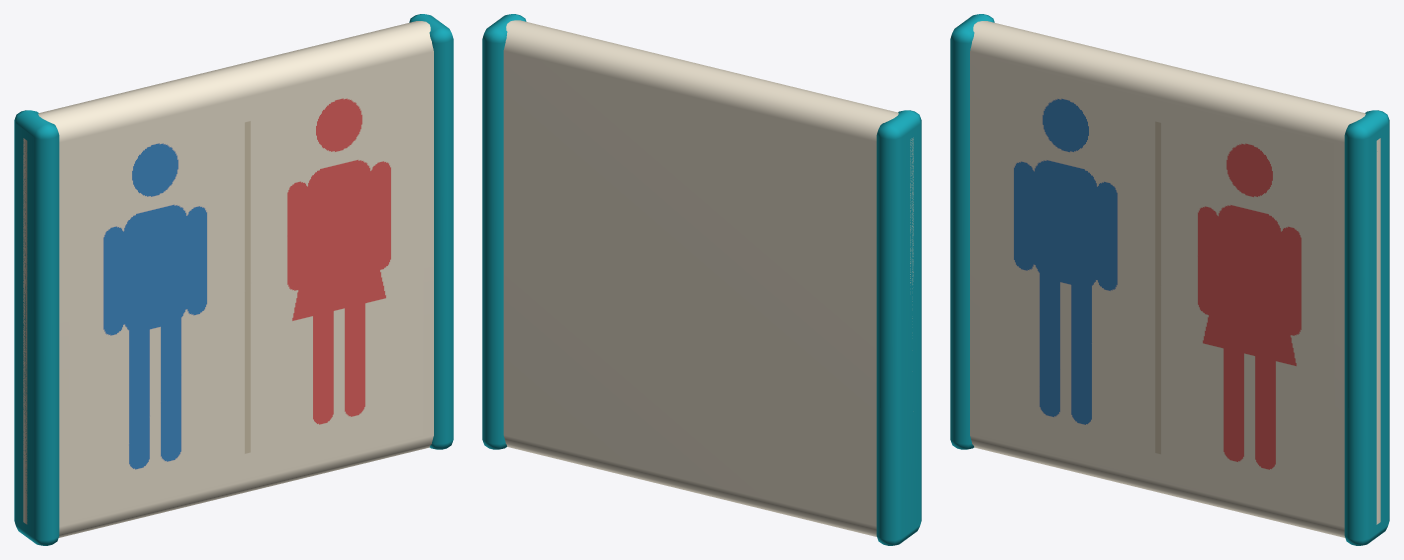
The model's file is Entrance_Sign_Restroom.glb.
3 renders of one model, left to right at view 1: azimuth 30°, elevation 25°; view 2: azimuth 150°, elevation 25°; view 3: azimuth 330°, elevation 25°, orthographic.
Parts seen in each view (by area): view 1: Entrance_Sign_Restroom__Entrance_Opaque_Graphics_Atlas, Entrance_Sign_Restroom__CRNA_Shared_Matte_Atlas; view 2: Entrance_Sign_Restroom__CRNA_Shared_Matte_Atlas; view 3: Entrance_Sign_Restroom__Entrance_Opaque_Graphics_Atlas, Entrance_Sign_Restroom__CRNA_Shared_Matte_Atlas.
Part boxes in pixels (x1,y1,x2,y2): Entrance_Sign_Restroom__Entrance_Opaque_Graphics_Atlas: (69,57,423,521); Entrance_Sign_Restroom__CRNA_Shared_Matte_Atlas: (14,14,453,545); Entrance_Sign_Restroom__CRNA_Shared_Matte_Atlas: (482,14,921,545); Entrance_Sign_Restroom__Entrance_Opaque_Graphics_Atlas: (980,57,1334,521); Entrance_Sign_Restroom__CRNA_Shared_Matte_Atlas: (950,14,1389,545).
Bounding box in the file's own units: 0.52 × 0.5 × 0.064.
Materials: 2 (2 with a texture image).
